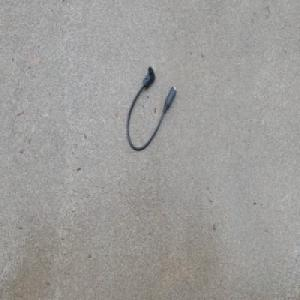Wire: (125, 65, 177, 152)
